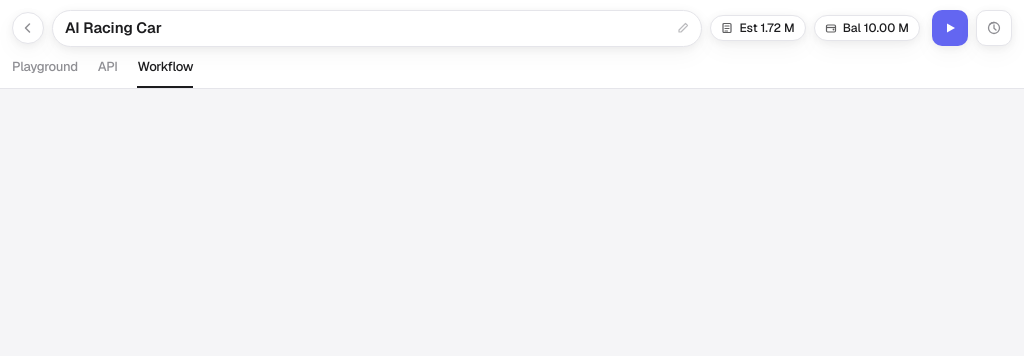
Test: Canvas chrome (13C) › shows Est/Bal and opens history on Play
Expected: the element with test id "credits-est" reads "Est 1.72 M", [710,15,806,41]
Expected: the element with test id "credits-bal" reads "Bal 10.00 M", [814,15,920,41]
Click the button with test id "workflow-play": (950, 28) [932,10,968,46]
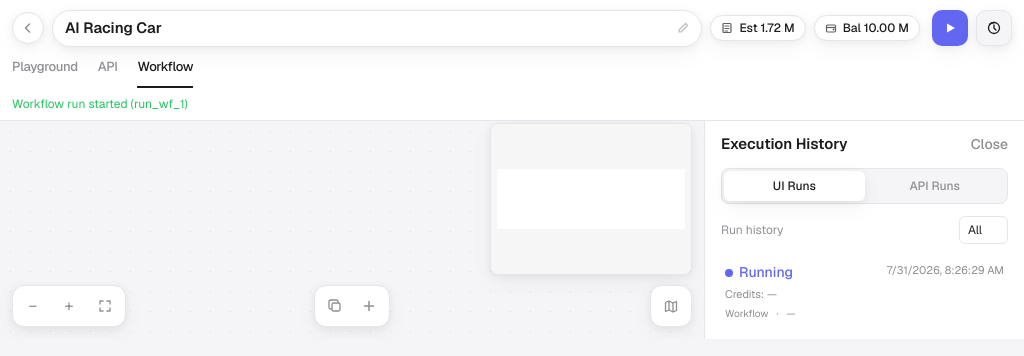
Now the element with test id "history-sidebar" is shown, box [704,121,1023,339]
